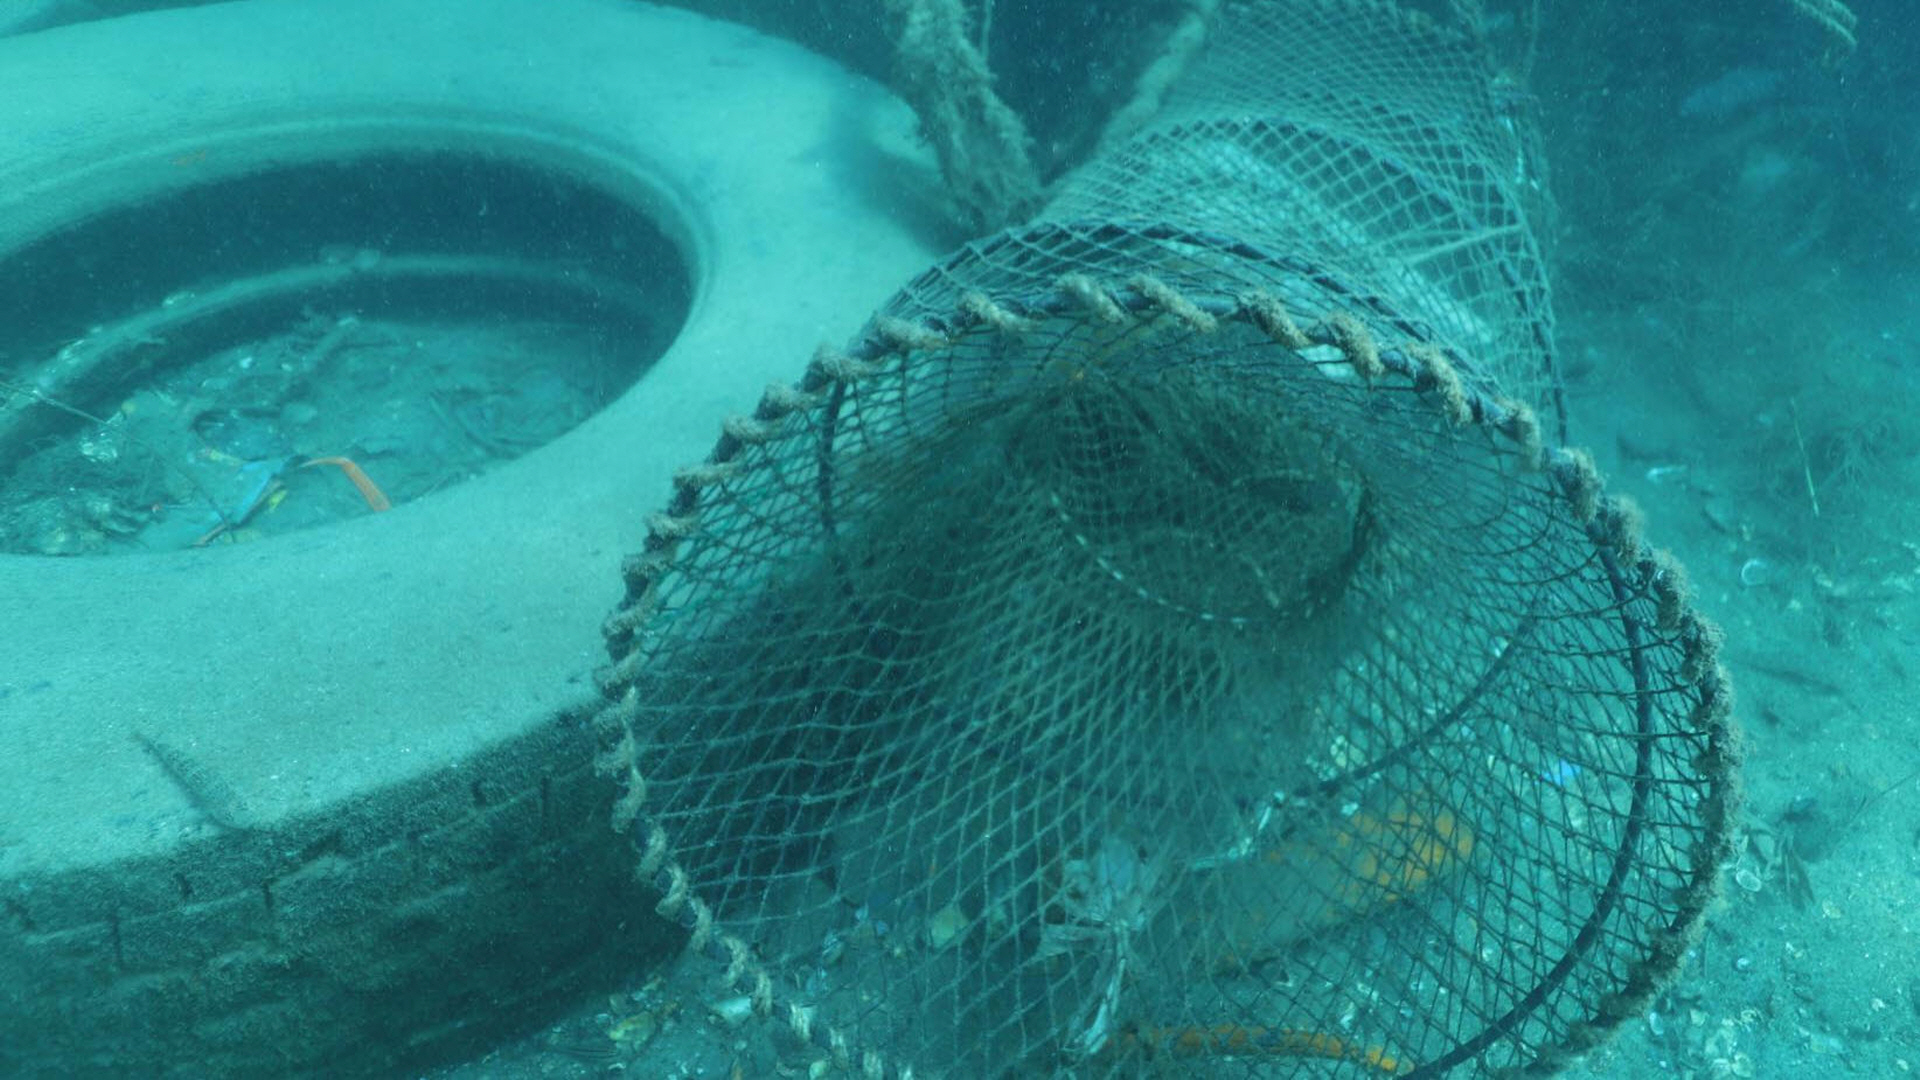spring fish trap: (585, 0, 1742, 1080)
tire: (0, 0, 976, 1080)
